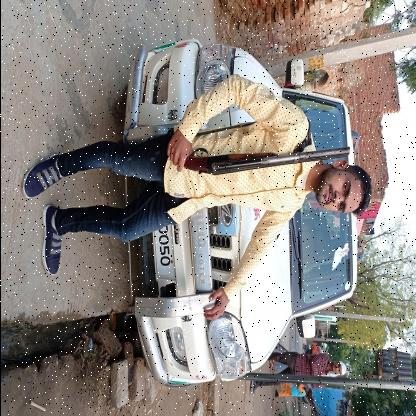rifle: (166, 126, 350, 177)
